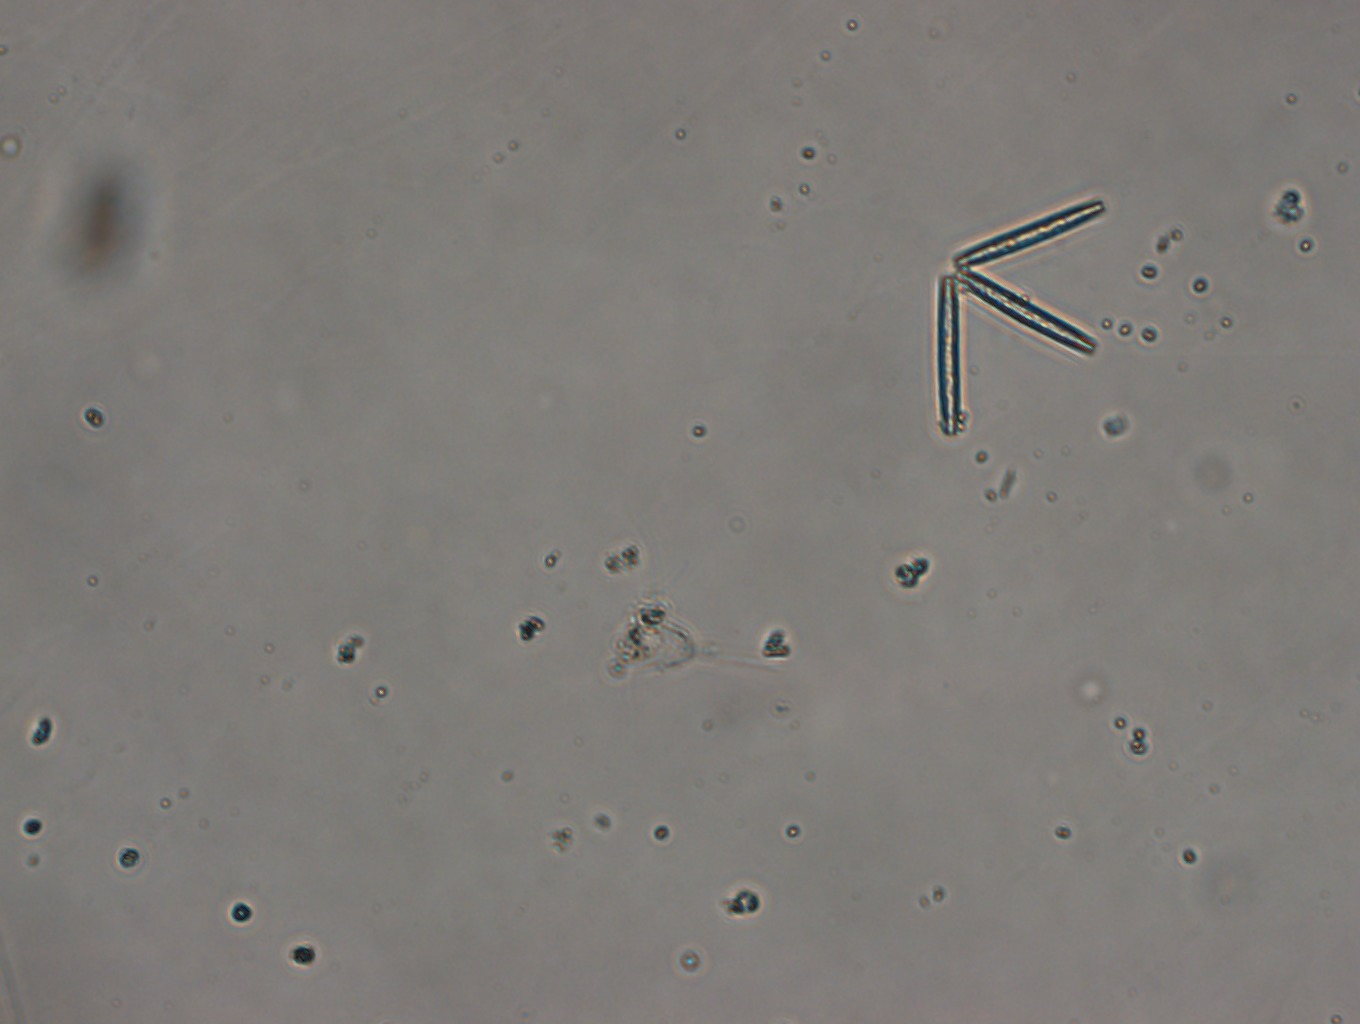thalassionema frauenfeldii: (929, 194, 1103, 436)
